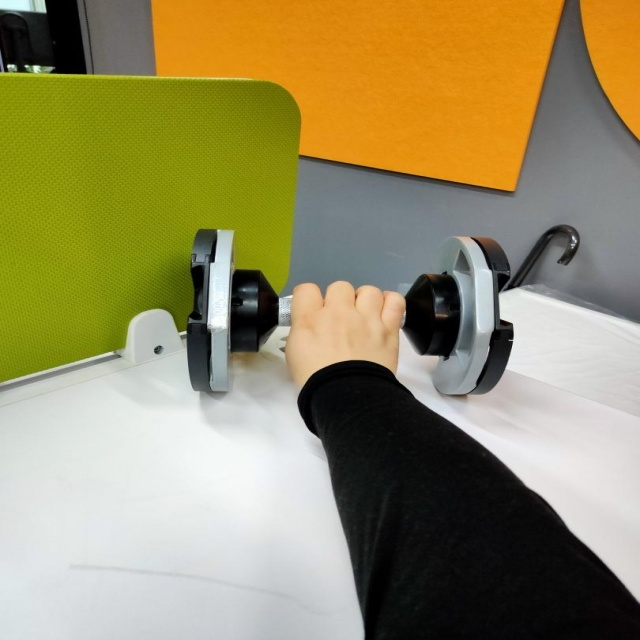02-4kg: (186, 228, 515, 396)
